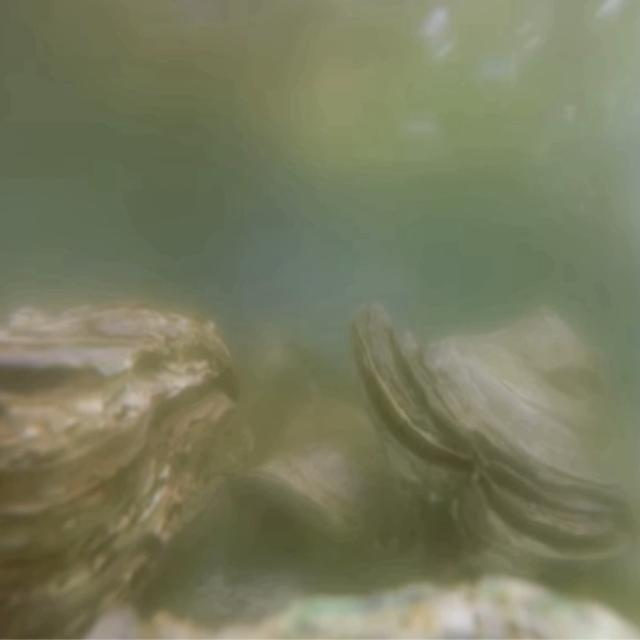Oyster-Closed: (0, 304, 252, 639)
Oyster-Indeterminate: (242, 401, 415, 552)
Oyster-Open: (350, 300, 640, 576)
